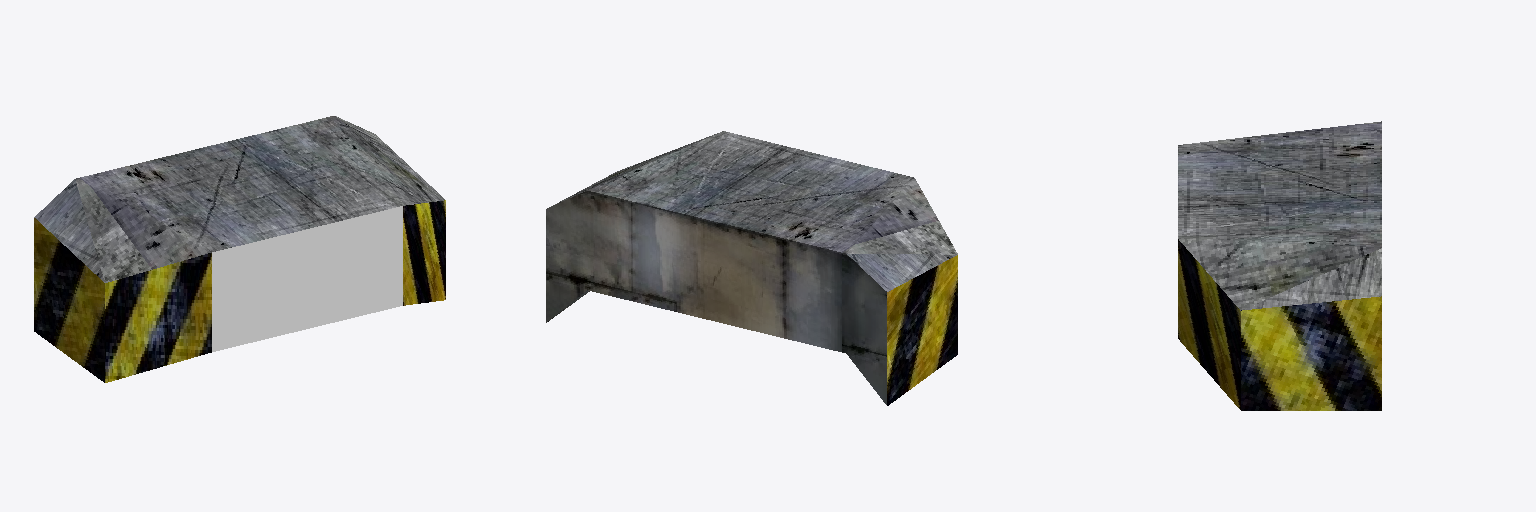
3 renders of one model, left to right at view 1: azimuth 30°, elevation 25°; view 2: azimuth 150°, elevation 25°; view 3: azimuth 270°, elevation 25°, orthographic.
Visible parts, largest first — view 1: Mesh1 Model; view 2: Mesh1 Model; view 3: Mesh1 Model.
Boxes of the visible parts, box(x1,y1,x2,y2) form: Mesh1 Model: box(34, 116, 445, 382); Mesh1 Model: box(546, 131, 957, 405); Mesh1 Model: box(1178, 121, 1381, 410).
Bounding box in the file's own units: 2.5 × 1 × 1.3.
2 materials, 1 textured.